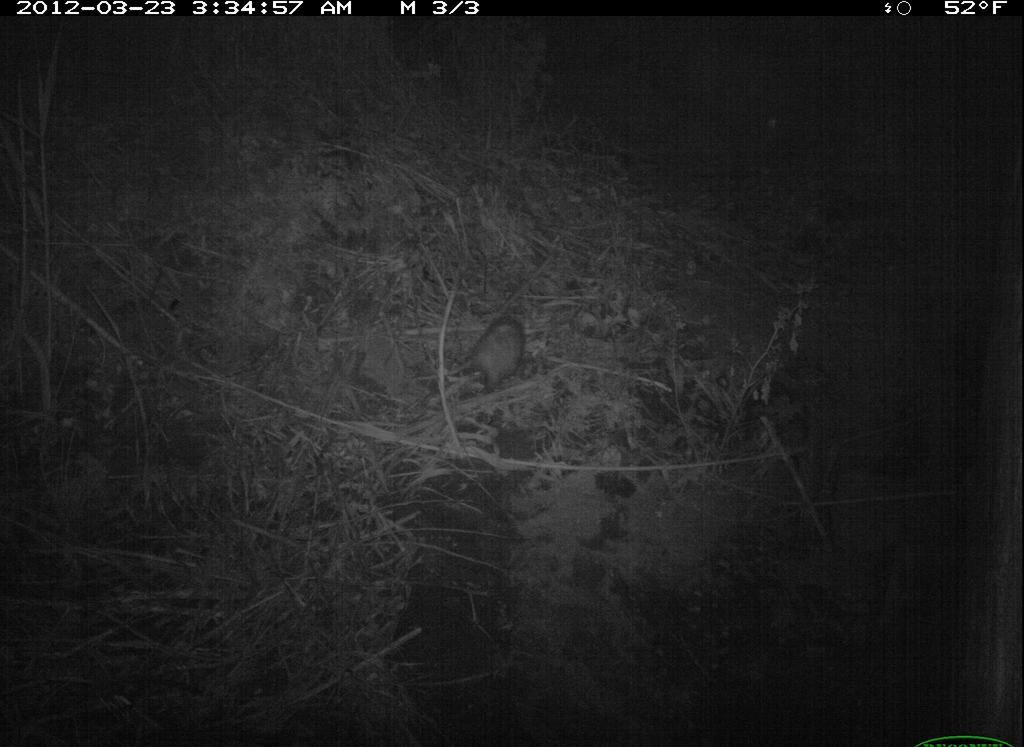opossum: (405, 308, 547, 402)
